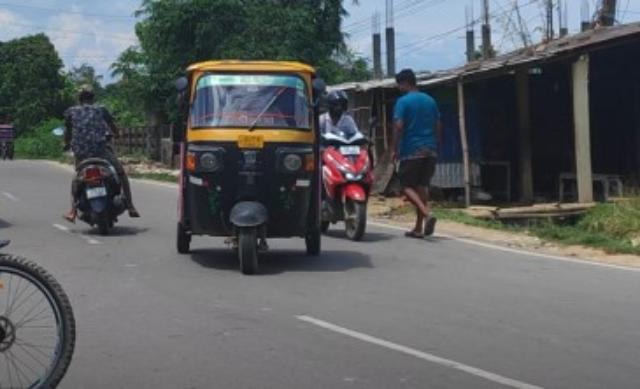licensePlate: (85, 188, 109, 201), (341, 144, 363, 156)
motorcycle: (62, 79, 146, 241), (319, 85, 376, 242)
withHelmet: (329, 87, 350, 116)
withoutHelmet: (76, 85, 95, 104)
